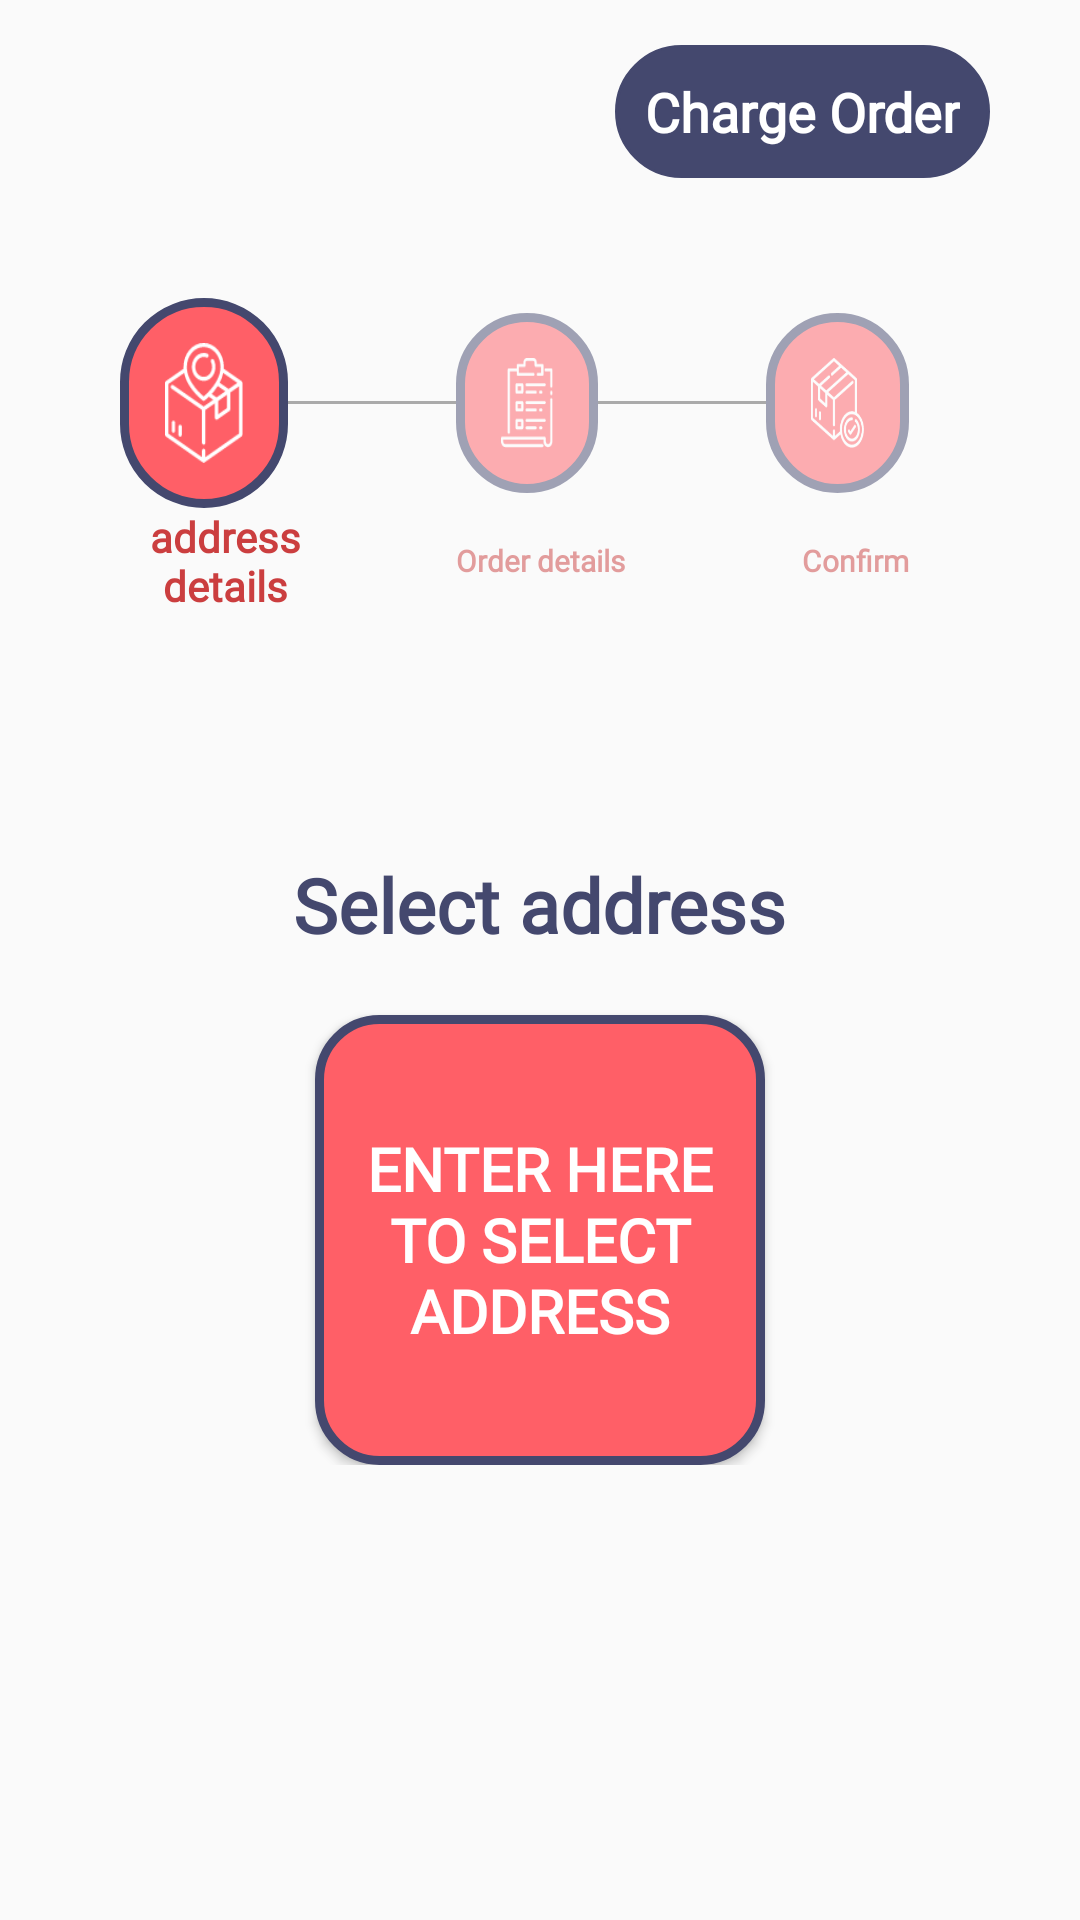

Where icons sit on this 1080px×1920px app screen, as (x1, y1, x2, y2):
noun checklist: (456, 313, 598, 493)
noun order: (766, 313, 909, 493)
noun shipment tracking: (120, 298, 288, 508)
